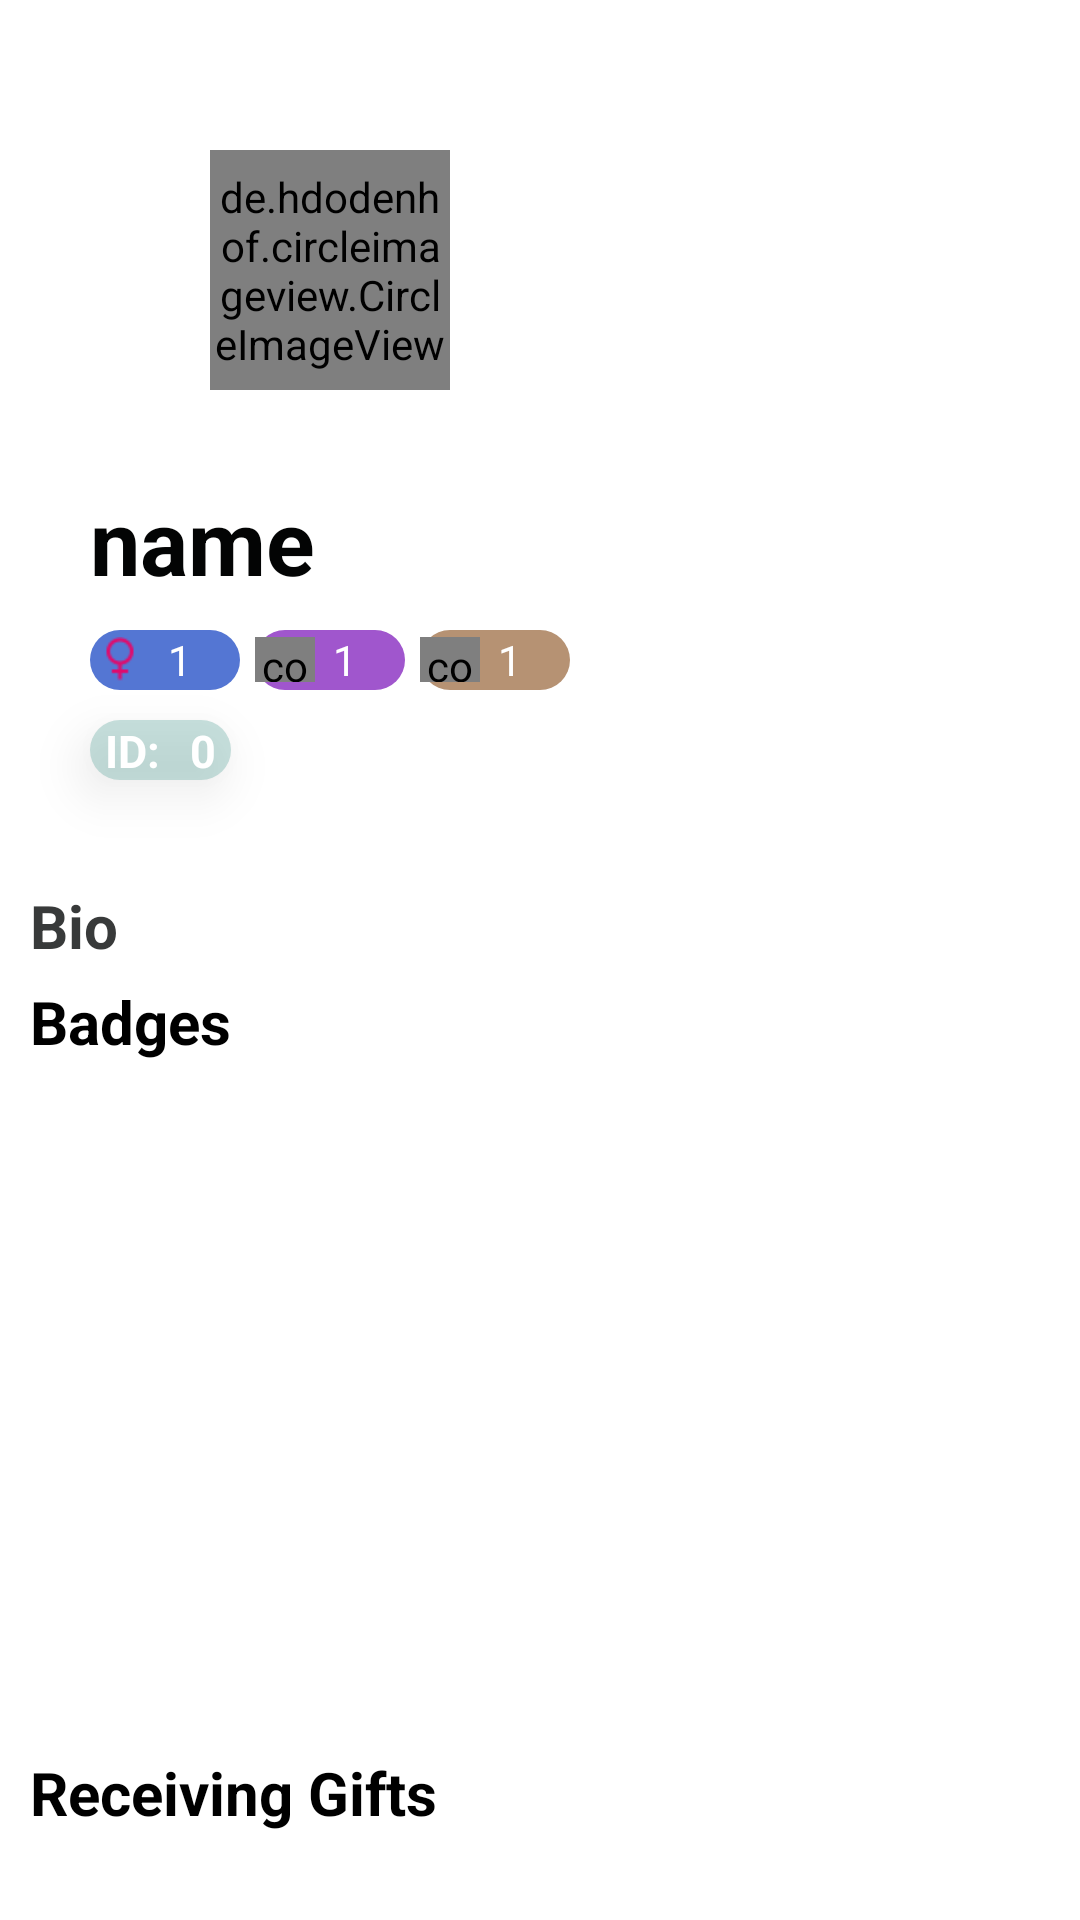

Icon click points for this 1080x1920 phone screenshot, format point (x, y):
female sign: point (120, 658)
